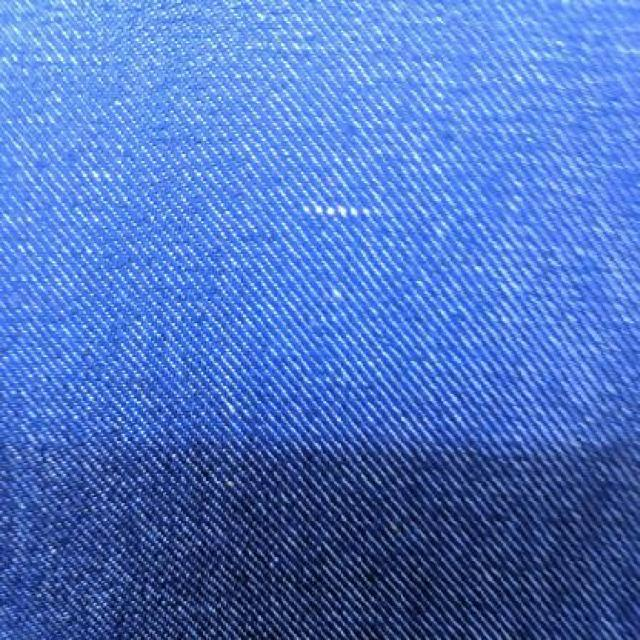pulled_or_thick_thread: (283, 195, 387, 229)
